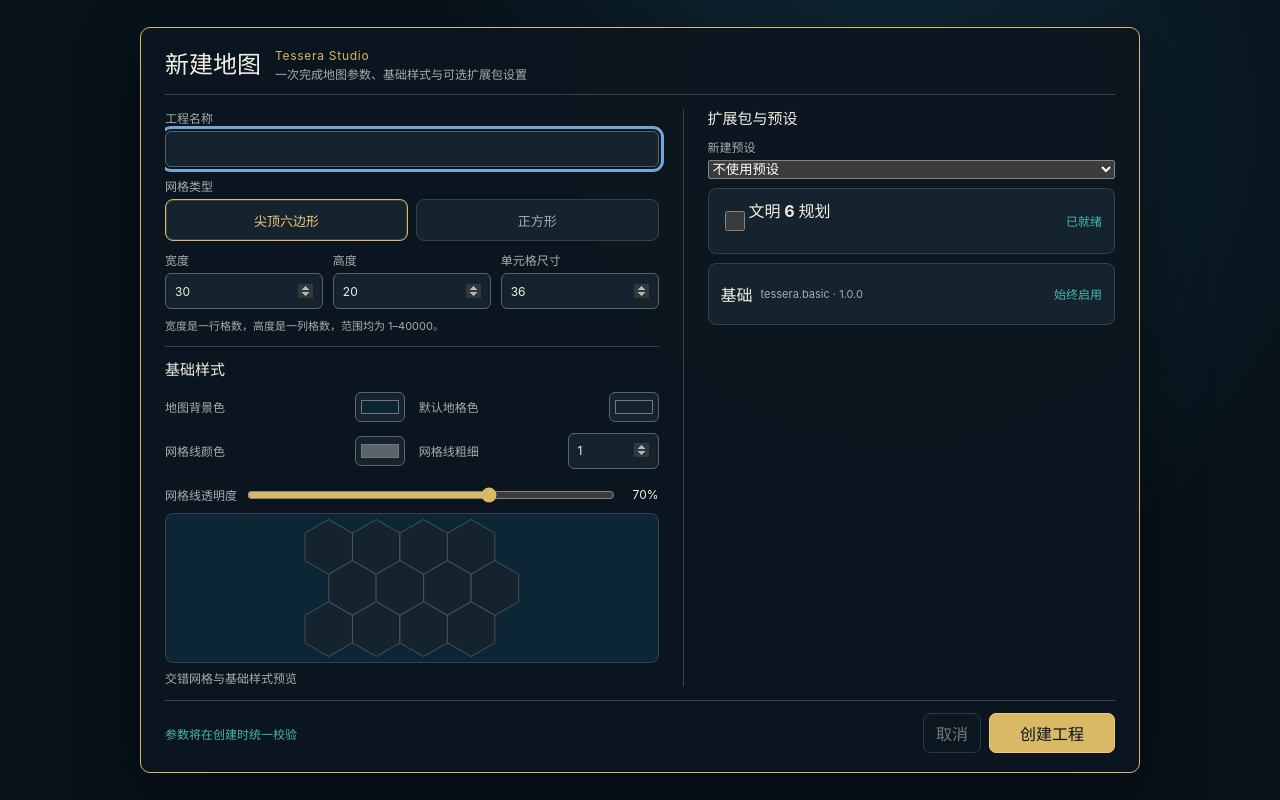
Test: NewProjectDialog › 网格切换会禁用不兼容包，已安装包覆盖同 ID 占位行
Expected: the text "文明 6 规划" is shown once, [748, 198, 830, 222]
Click the checkbox labelled "文明 6 规划": {"x": 734, "y": 221} [724, 203, 744, 239]
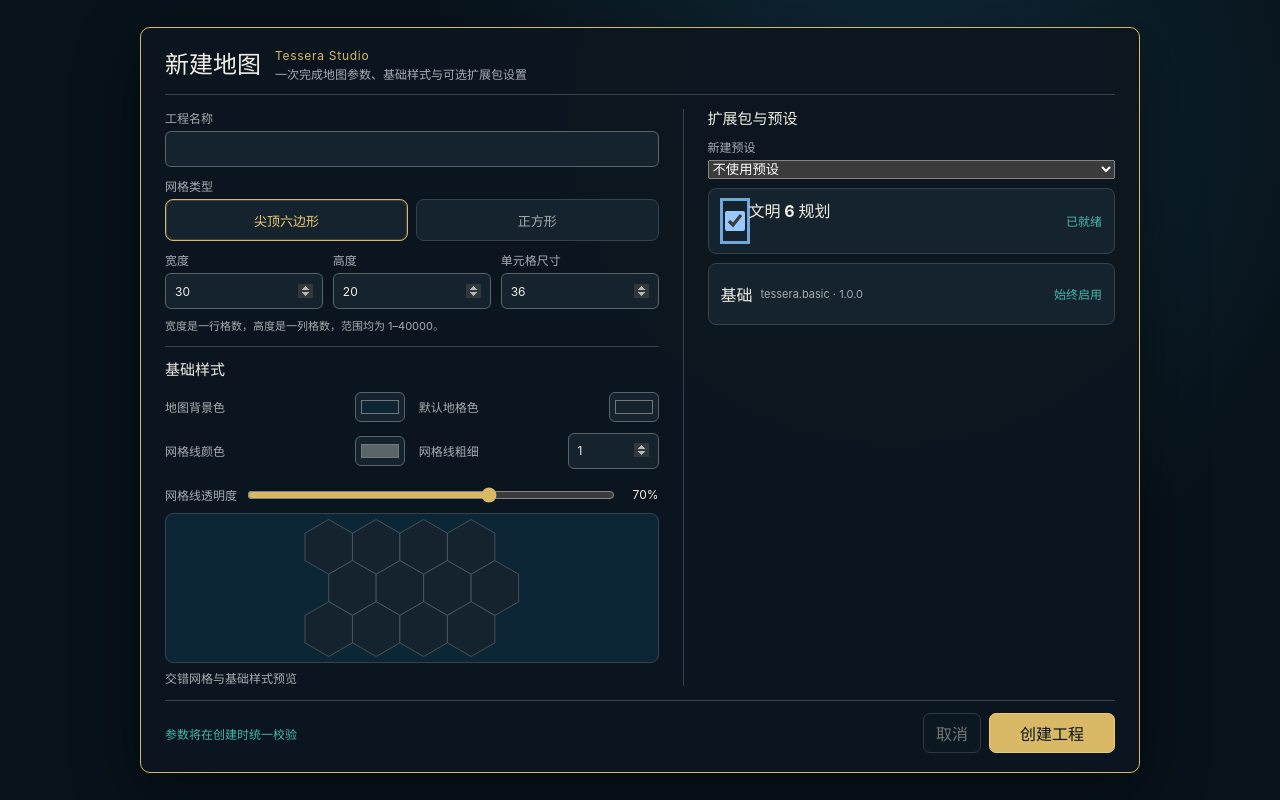
Expected: the checkbox labelled "文明 6 规划" is checked, [724, 203, 744, 239]
Click the radio button labelled "正方形": {"x": 537, "y": 220} [416, 199, 659, 241]
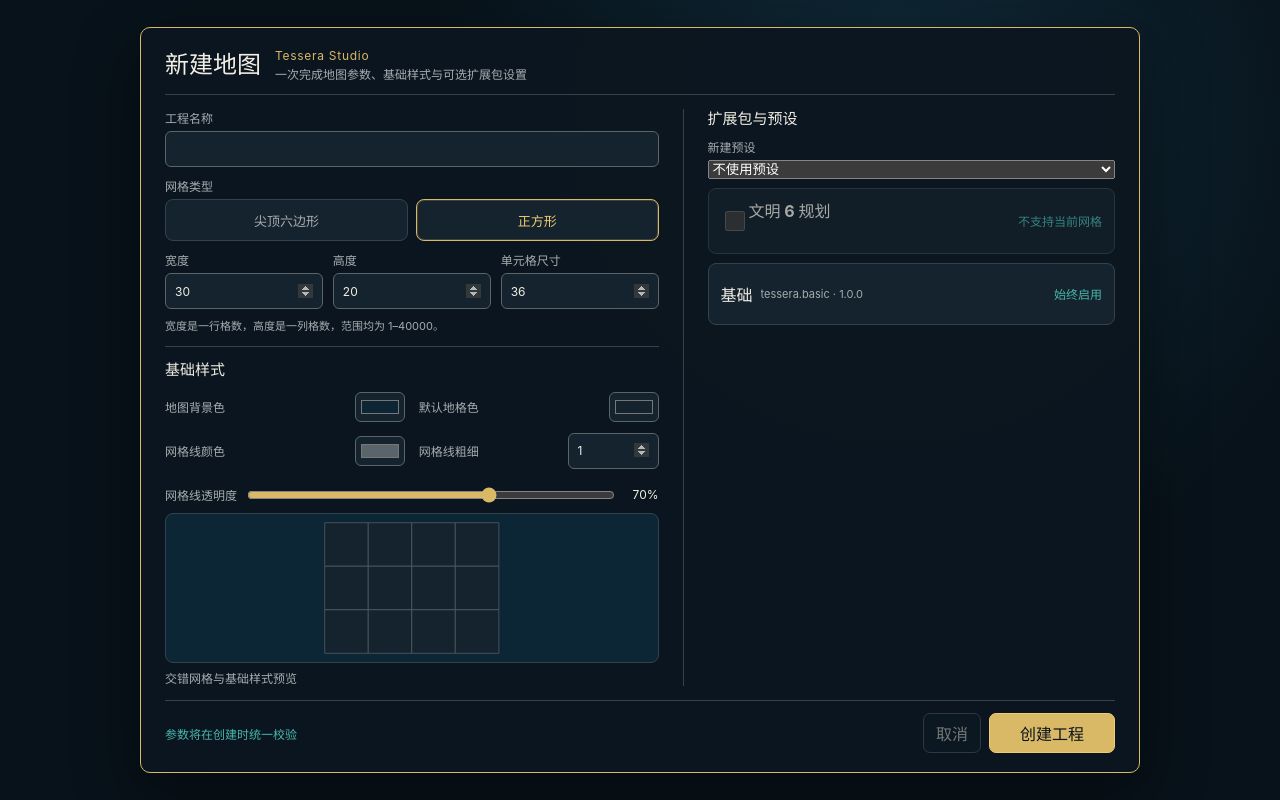
Expected: the checkbox labelled "文明 6 规划" is not checked, [724, 203, 744, 239]
Expected: the checkbox labelled "文明 6 规划" is disabled, [724, 203, 744, 239]
Expected: the text "不支持当前网格" is shown, [1018, 212, 1102, 229]
